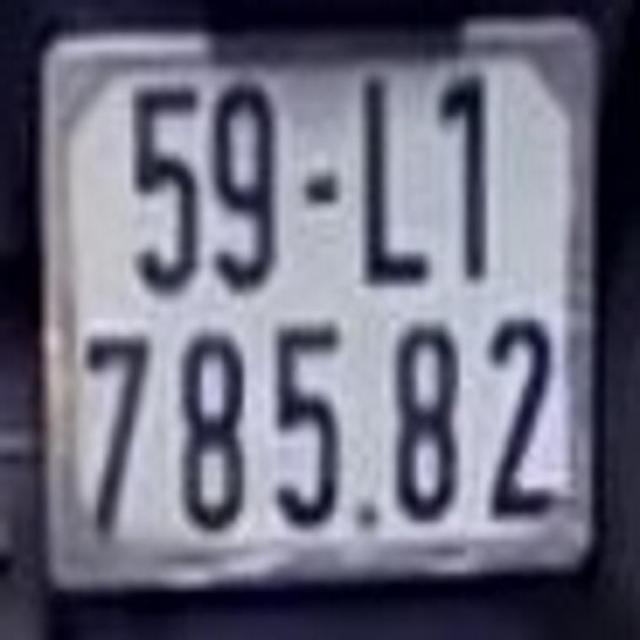1: (442, 75, 490, 282)
2: (488, 312, 556, 522)
5: (128, 80, 202, 289), (276, 319, 343, 528)
7: (82, 332, 154, 538)
8: (396, 322, 460, 522), (182, 329, 245, 530)
9: (212, 80, 285, 292)
L: (357, 74, 438, 289)
